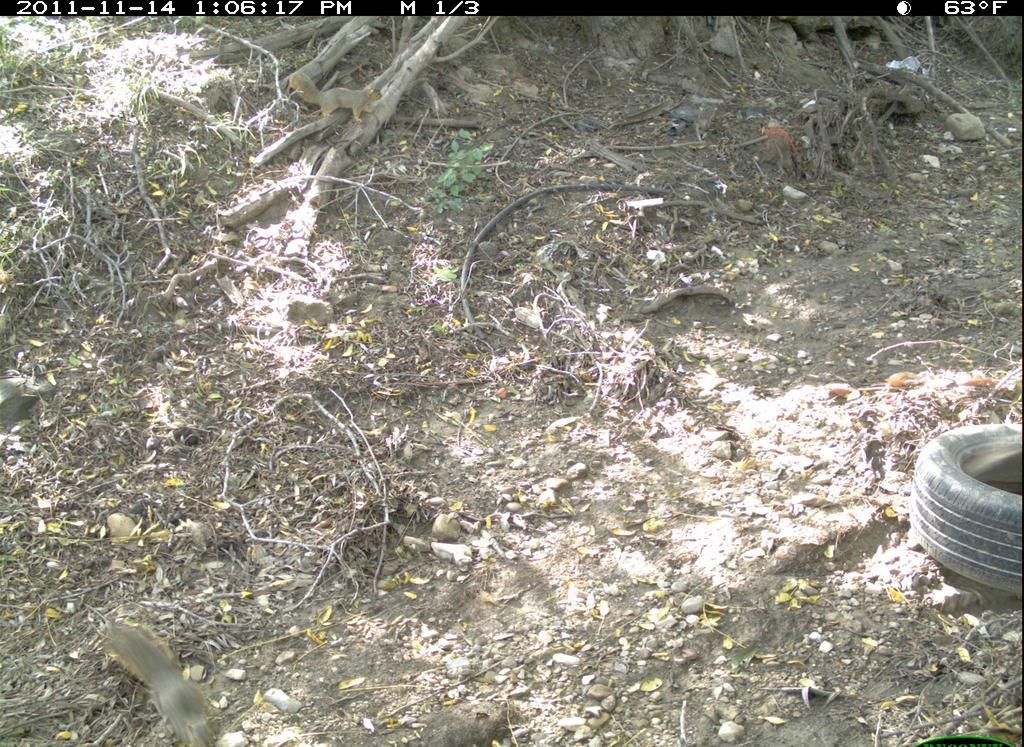squirrel: (87, 613, 247, 743)
